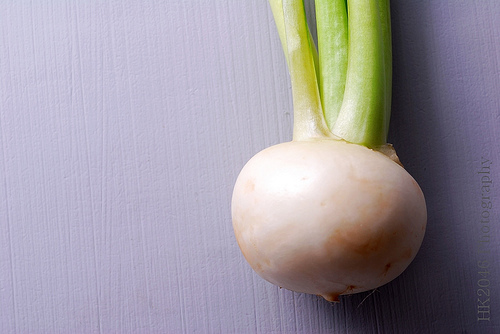turnip: (223, 1, 437, 312)
